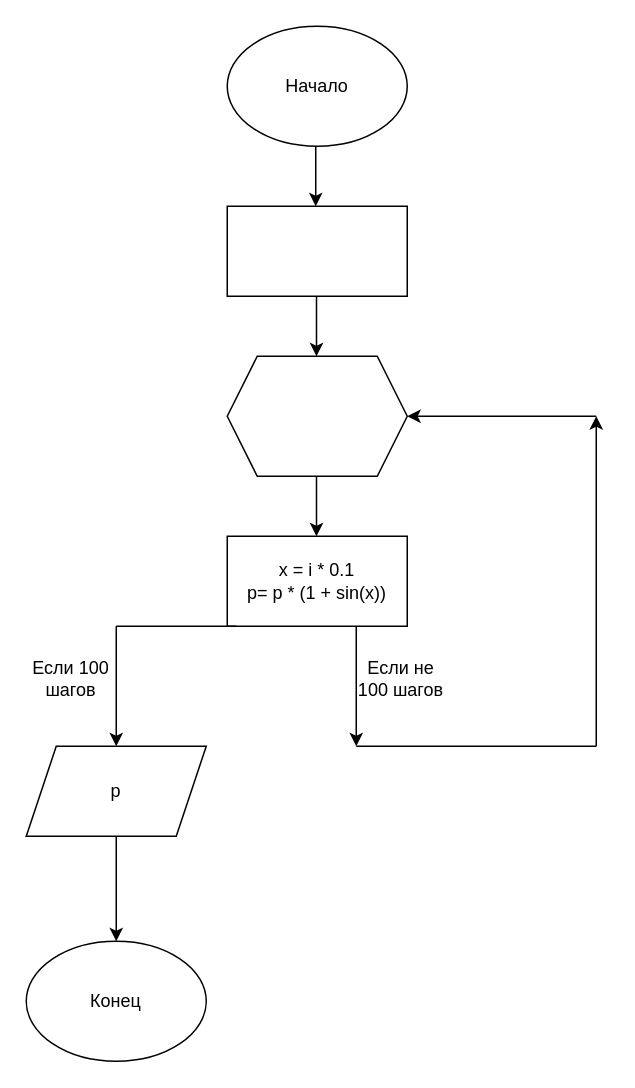
This 635x1088 diagram has some shape labels left out. The centre of each missing label's shape, as x and y in pixels:
i = 1, 100, 1: (316,415)
p = 1.0: (316,250)
